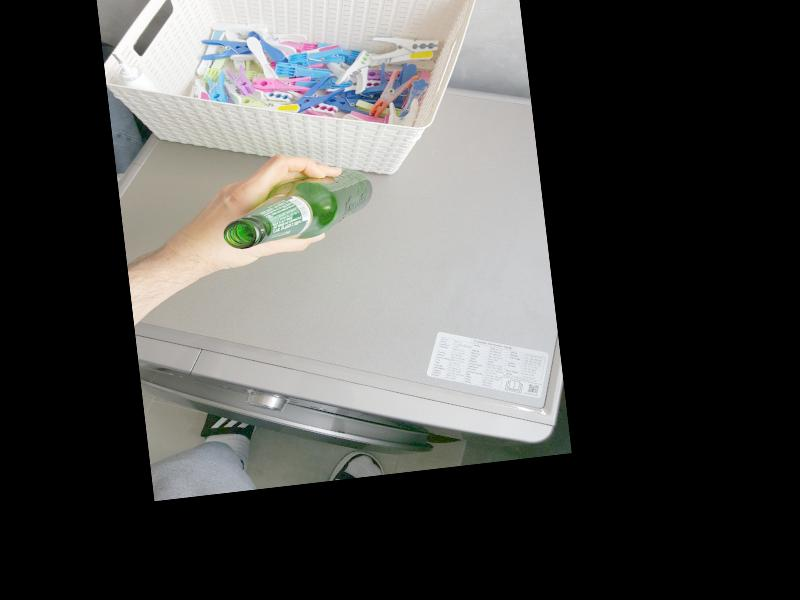Beer: (217, 163, 376, 251)
